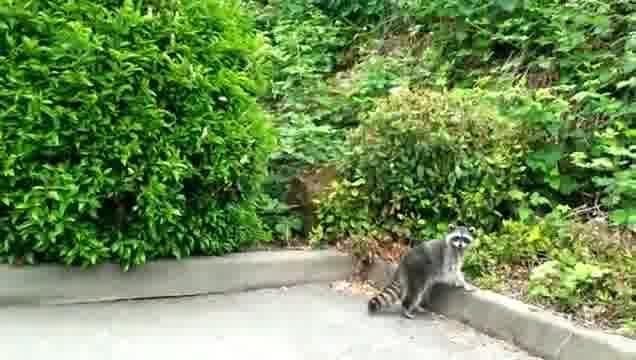raccoon: (369, 223, 474, 320)
